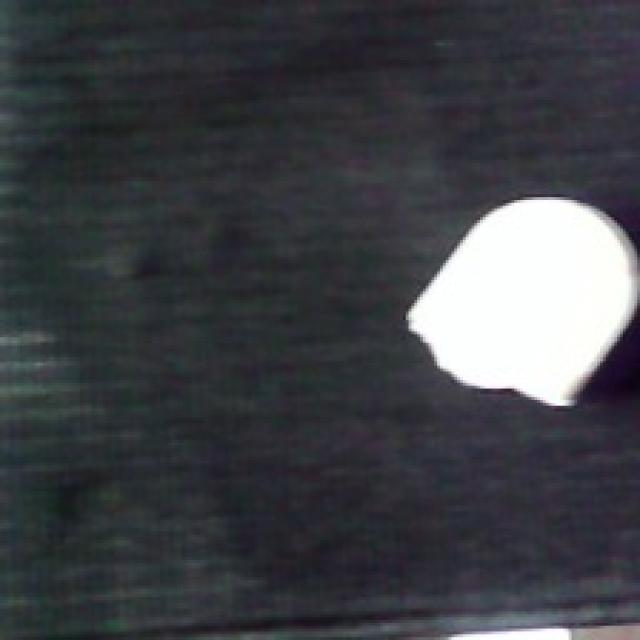defected: (400, 186, 637, 411)
